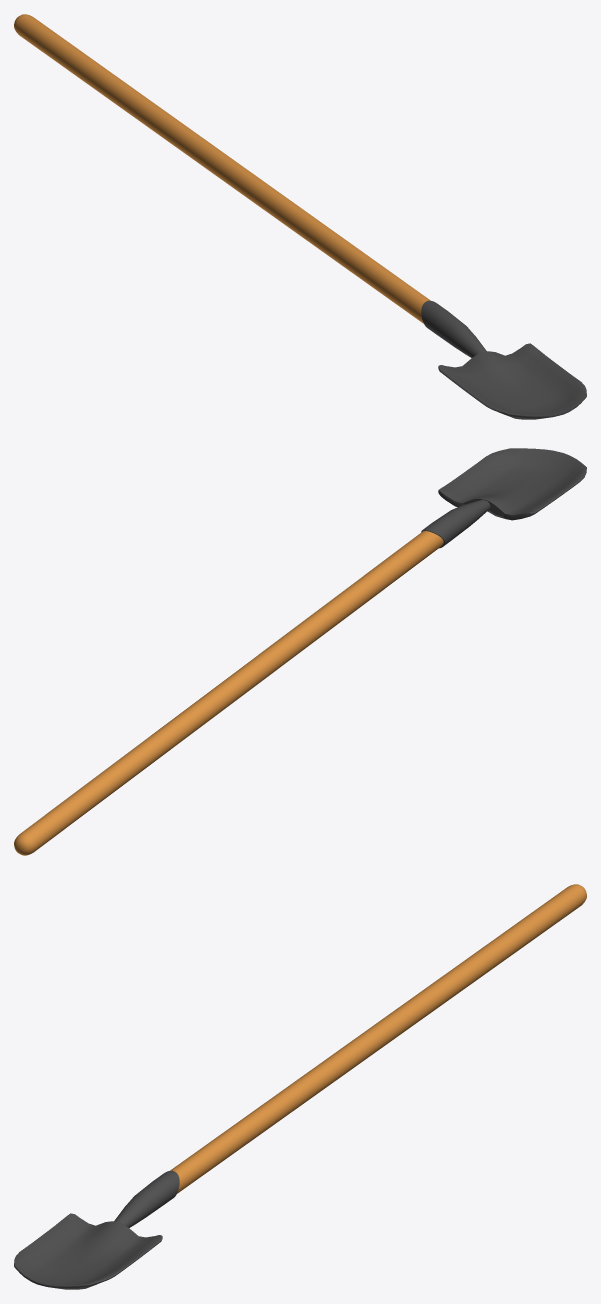
File: shovel.fbx
3 views of the same model, one above another, from view 1: azimuth 30°, elevation 25°; view 2: azimuth 150°, elevation 25°; view 3: azimuth 330°, elevation 25° (orthographic).
Visible parts, largest first — view 1: shovel; view 2: shovel; view 3: shovel.
Part boxes in pixels (bbox=[...]): shovel: bbox=[14, 14, 586, 419]; shovel: bbox=[14, 448, 586, 855]; shovel: bbox=[14, 884, 586, 1289].
Bounding box in the file's own units: 15.37 × 4.59 × 150.
